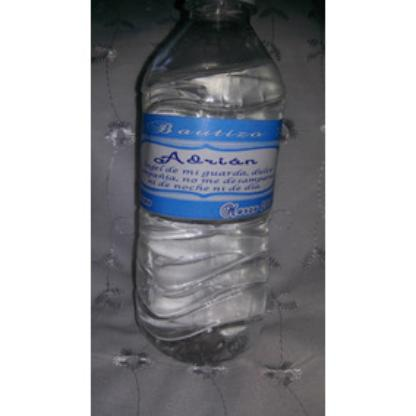Plastic Bottle: (132, 0, 286, 364)
